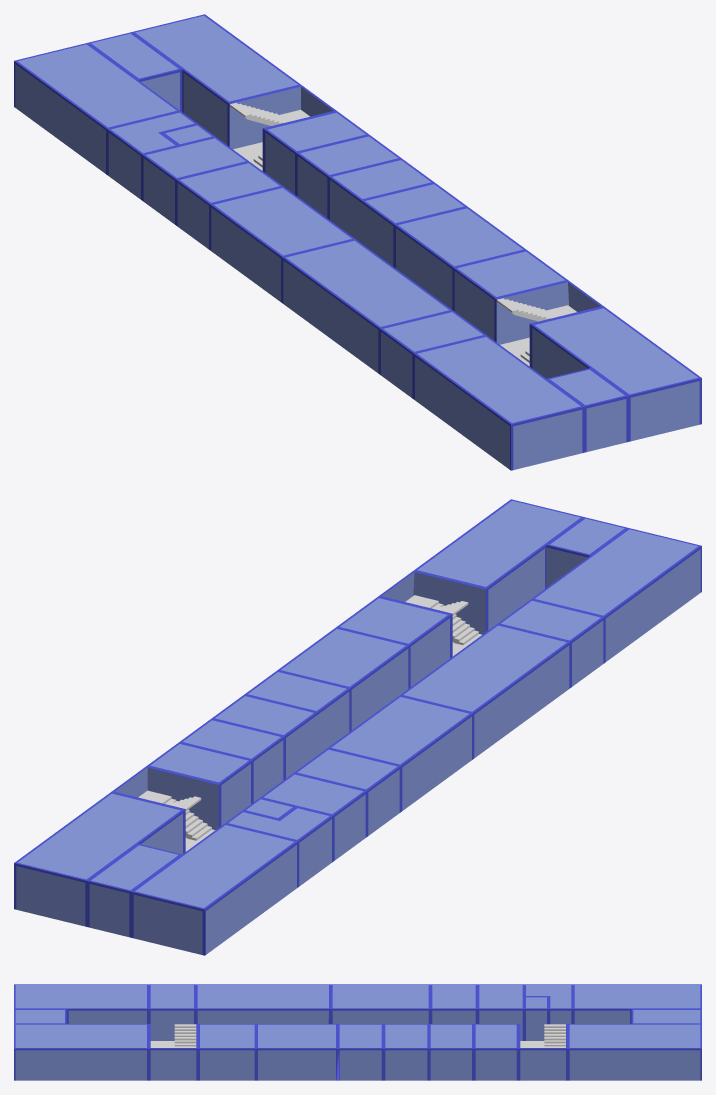
Rendered from dstu-7.glb.
3 renders of one model, top to bottom at view 1: azimuth 30°, elevation 25°; view 2: azimuth 150°, elevation 25°; view 3: azimuth 270°, elevation 25°, orthographic. The views are drawn at different scales.
Visible parts, largest first — view 1: 7, L7L, L7R; view 2: 7, L7L, L7R; view 3: 7, L7L, L7R.
Boxes of the visible parts, left/top/right/bottom form: 7: left=14, top=14, right=701, bottom=470; L7L: left=496, top=298, right=576, bottom=362; L7R: left=229, top=102, right=309, bottom=167; 7: left=14, top=499, right=701, bottom=955; L7L: left=405, top=595, right=478, bottom=645; L7R: left=138, top=790, right=211, bottom=840; 7: left=14, top=984, right=701, bottom=1080; L7L: left=174, top=1024, right=196, bottom=1047; L7R: left=544, top=1024, right=565, bottom=1047.
Size of the model in its own units: 13 by 3.14 by 58.64.
